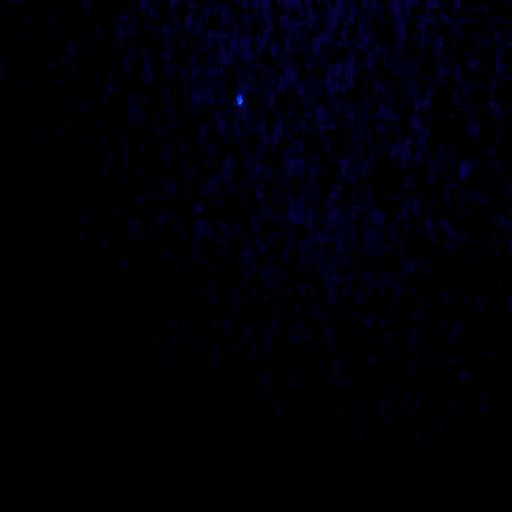object-detection-project: (237, 94, 243, 105)
